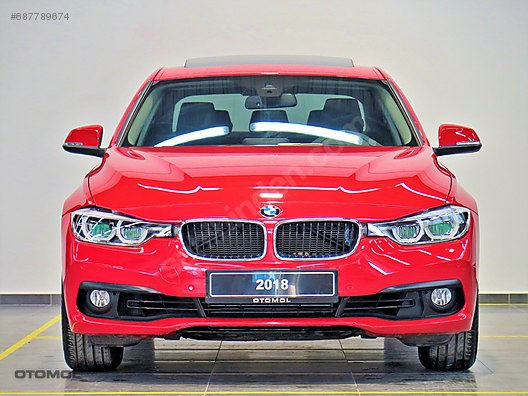b: (55, 52, 489, 378)
